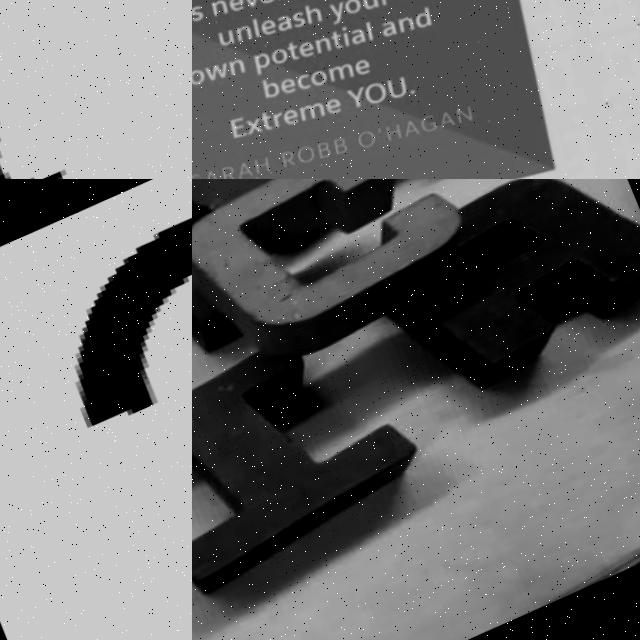2: (4, 179, 192, 640)
A: (358, 179, 640, 412)
C: (192, 179, 498, 384)
I: (192, 299, 437, 627)
K: (192, 185, 271, 441)
